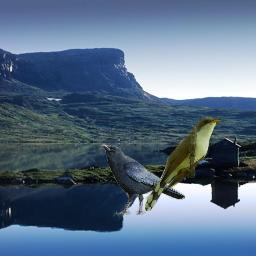Crow: (100, 144, 185, 216)
Cuckoo: (145, 117, 221, 211)
